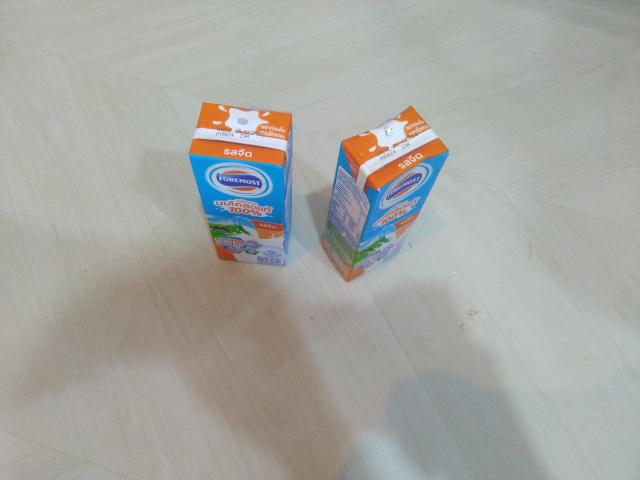drink_box: (182, 85, 312, 272), (325, 100, 458, 279)
